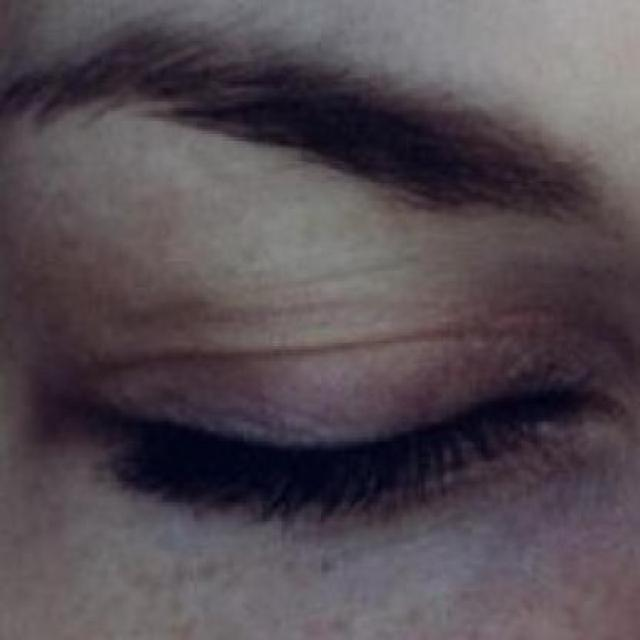drowsy: (74, 318, 628, 587)
